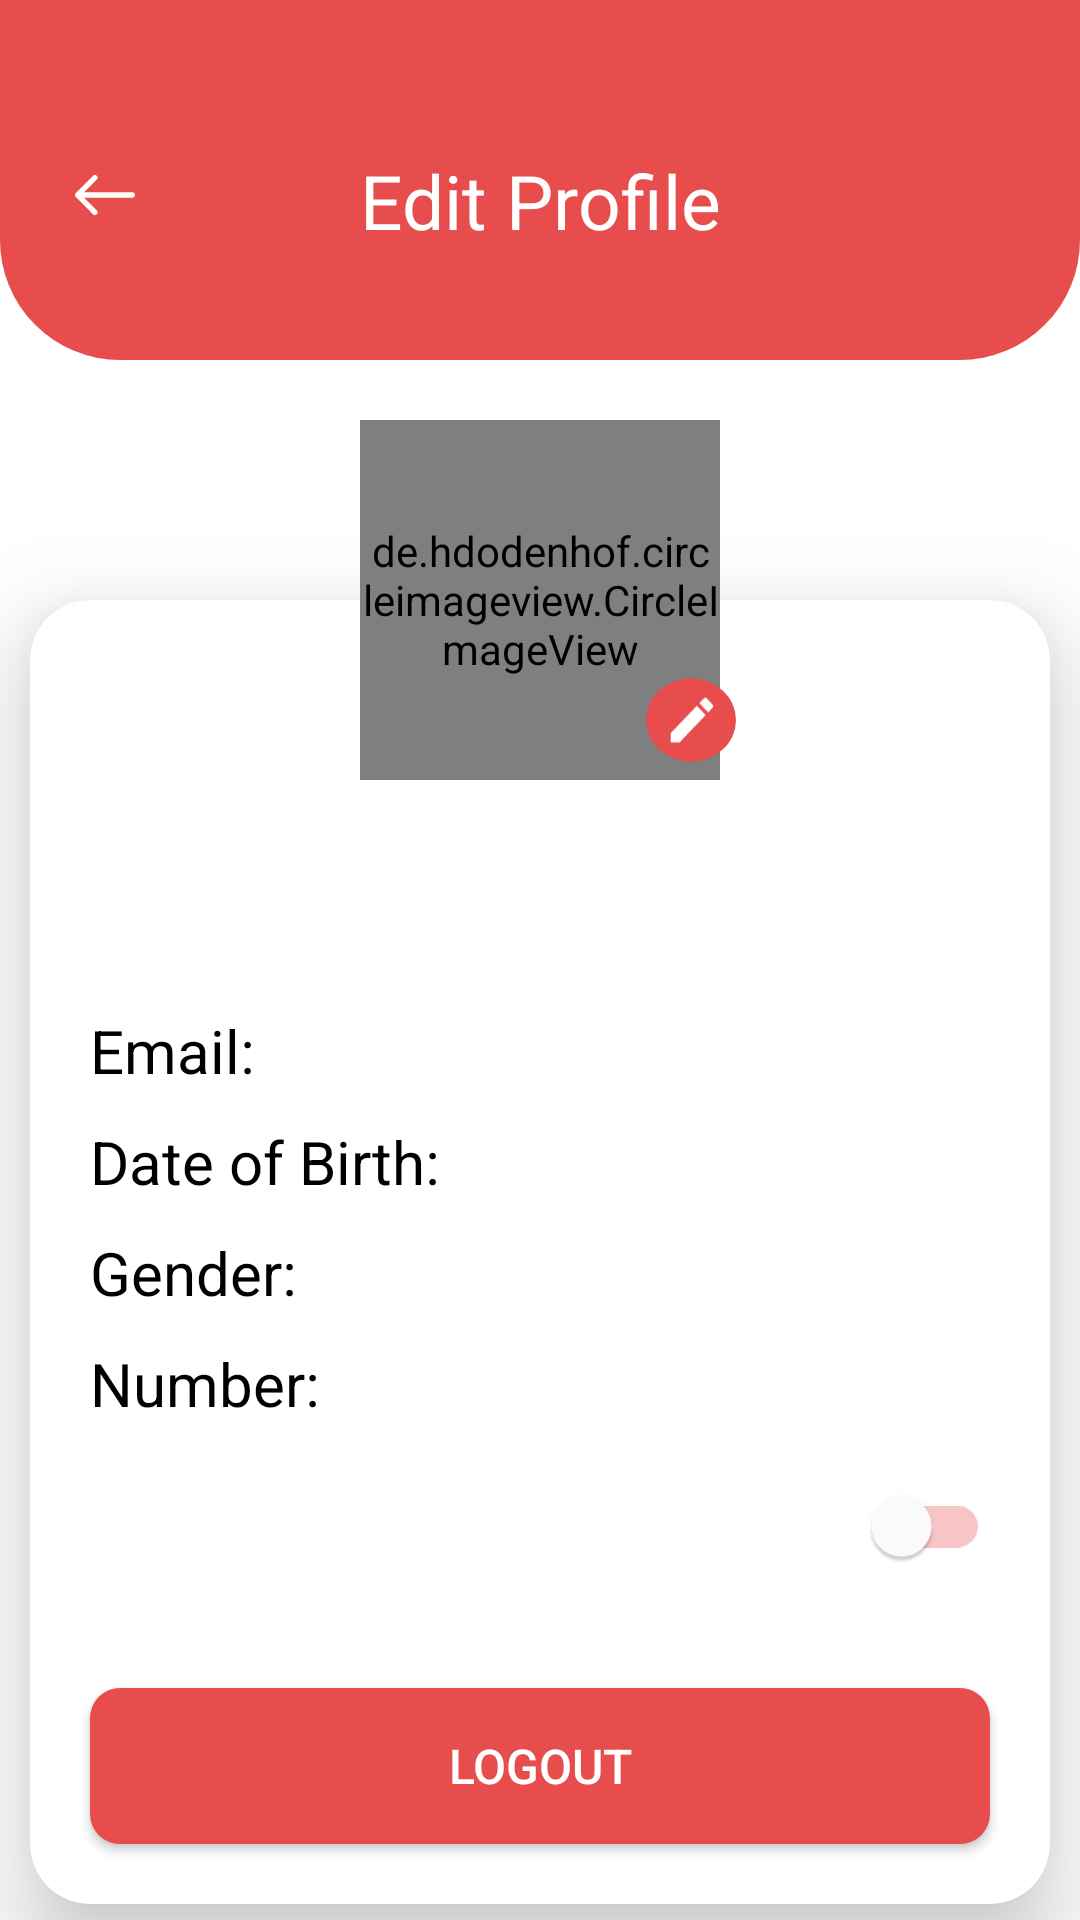

Screen size 1080px x 1920px. Icon name, then its box in pixels as [x1=x1, y1=y1, x2=x2, y2=y2]:
edit: [x1=646, y1=675, x2=736, y2=765]
